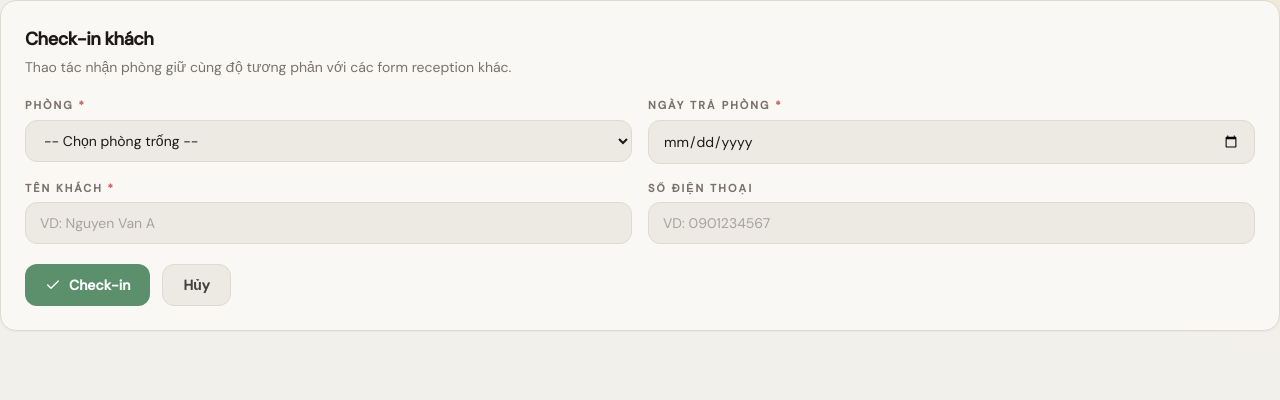
Scenario: CheckInForm › shows phone validation error for invalid phone number
Type "abc123" into the field with placeholder "VD: 0901234567" at (952, 223), box [648,202,1255,244]
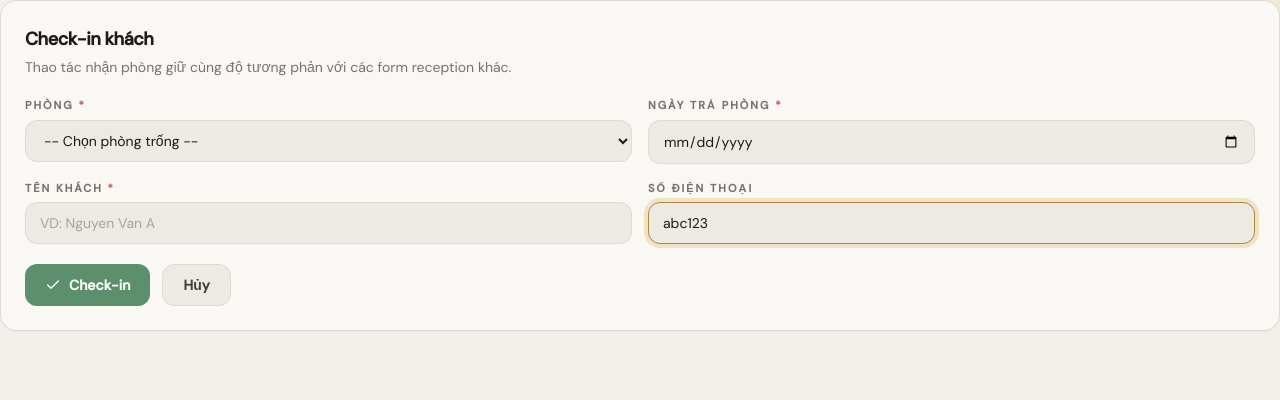
Click the button "Check-in" at (88, 285), box [25,264,150,306]
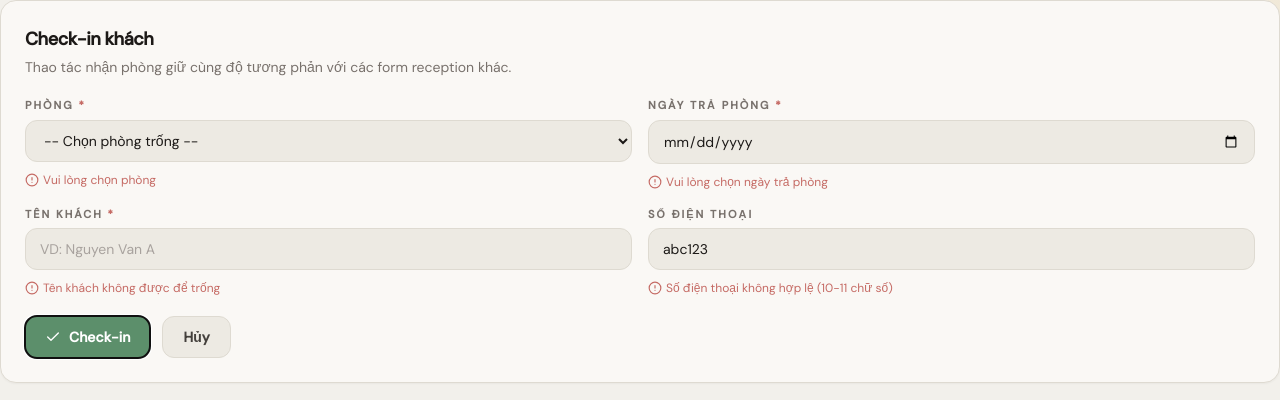
Expected: the text "Số điện thoại không hợp lệ (10-11 chữ số)" is shown, [648,280,893,296]
